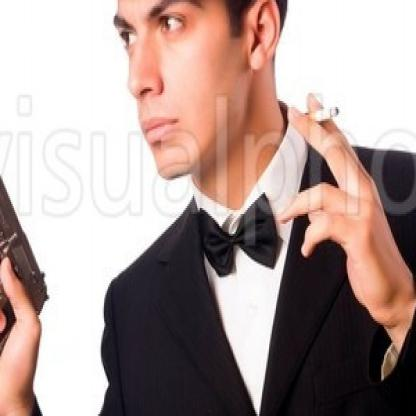gun: (0, 134, 52, 383)
